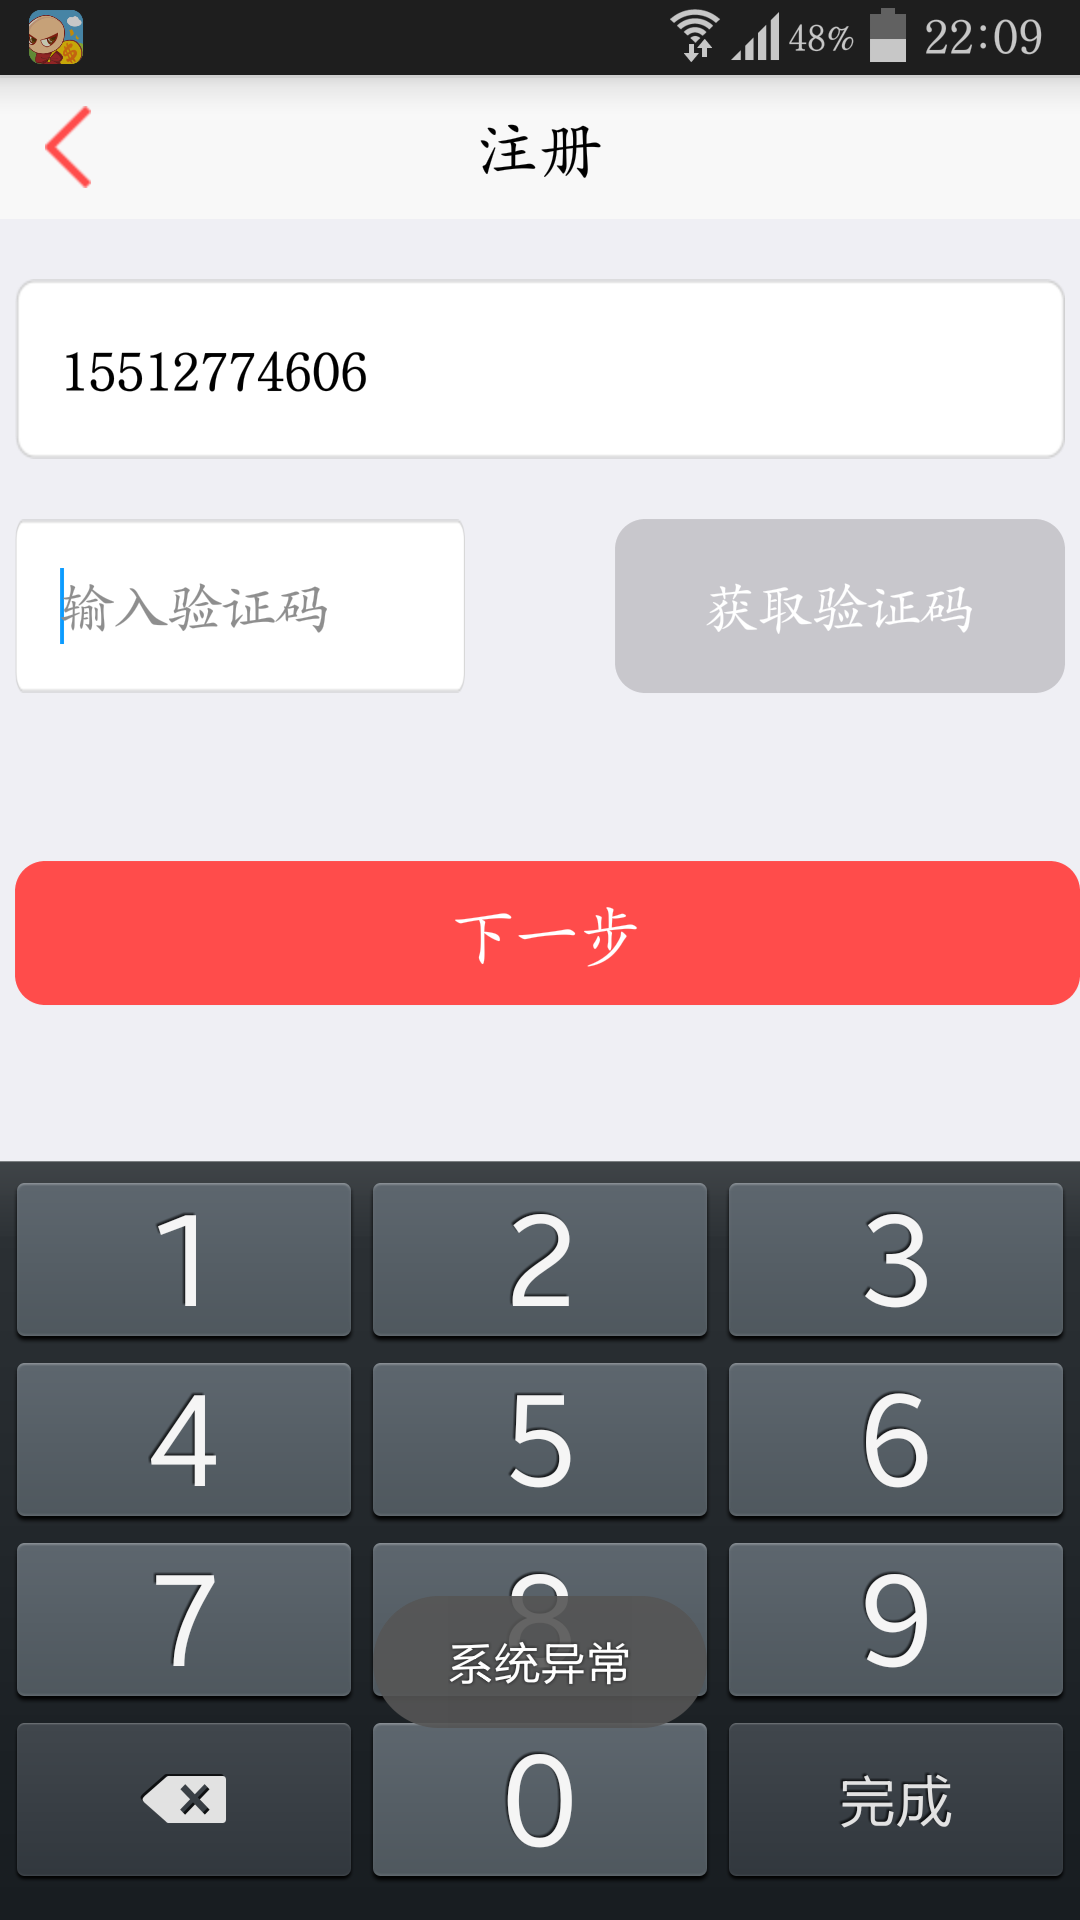alert: (369, 1596, 716, 1731)
button: (8, 851, 1080, 1017), (589, 502, 1080, 713)
imgbutton: (24, 96, 127, 206)
textview: (7, 272, 1080, 469), (7, 512, 473, 709)
